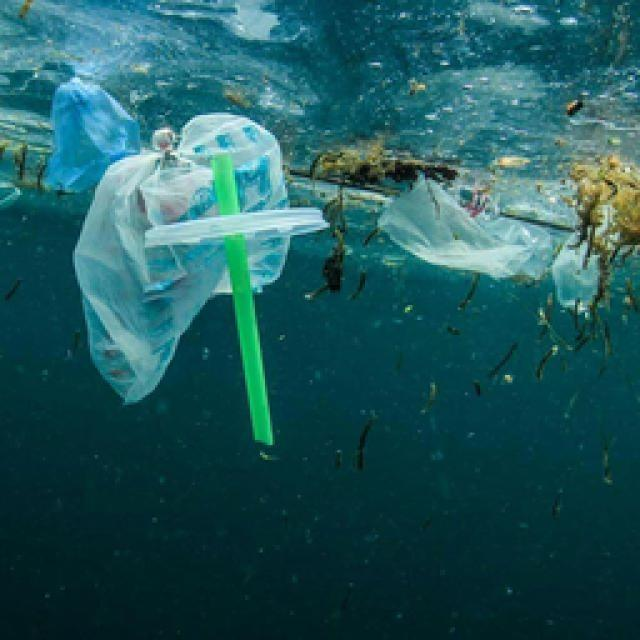plastic: (225, 235, 270, 442), (215, 155, 238, 215)
